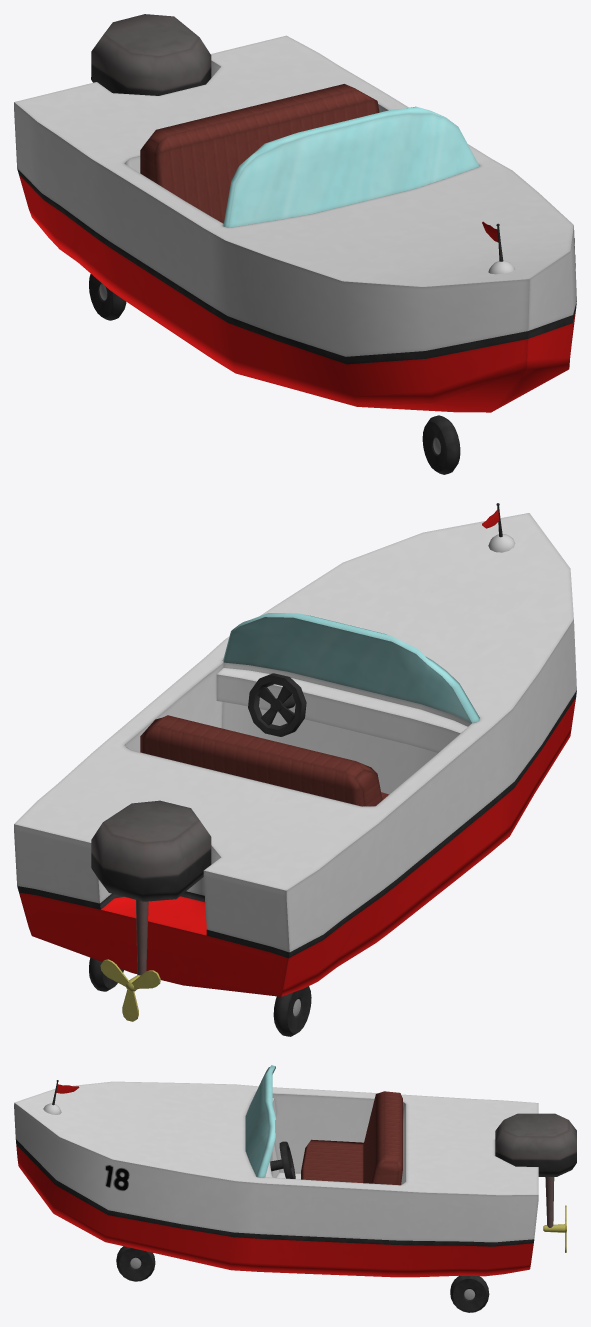
File: car.glb
The picture shows the model from 3 angles, top to bottom: view 1: azimuth 30°, elevation 25°; view 2: azimuth 150°, elevation 25°; view 3: azimuth 270°, elevation 25°; orthographic projection. The views are drawn at different scales.
Parts seen in each view (by area): view 1: pCylinder10; view 2: pCylinder10; view 3: pCylinder10.
Part boxes in pixels (x1=…): pCylinder10: x1=14, y1=14, x2=576, y2=474; pCylinder10: x1=14, y1=503, x2=576, y2=1036; pCylinder10: x1=14, y1=1065, x2=576, y2=1312.
Size of the model in its own units: 1.37 by 1.33 by 3.37.
1 material, 1 textured.
